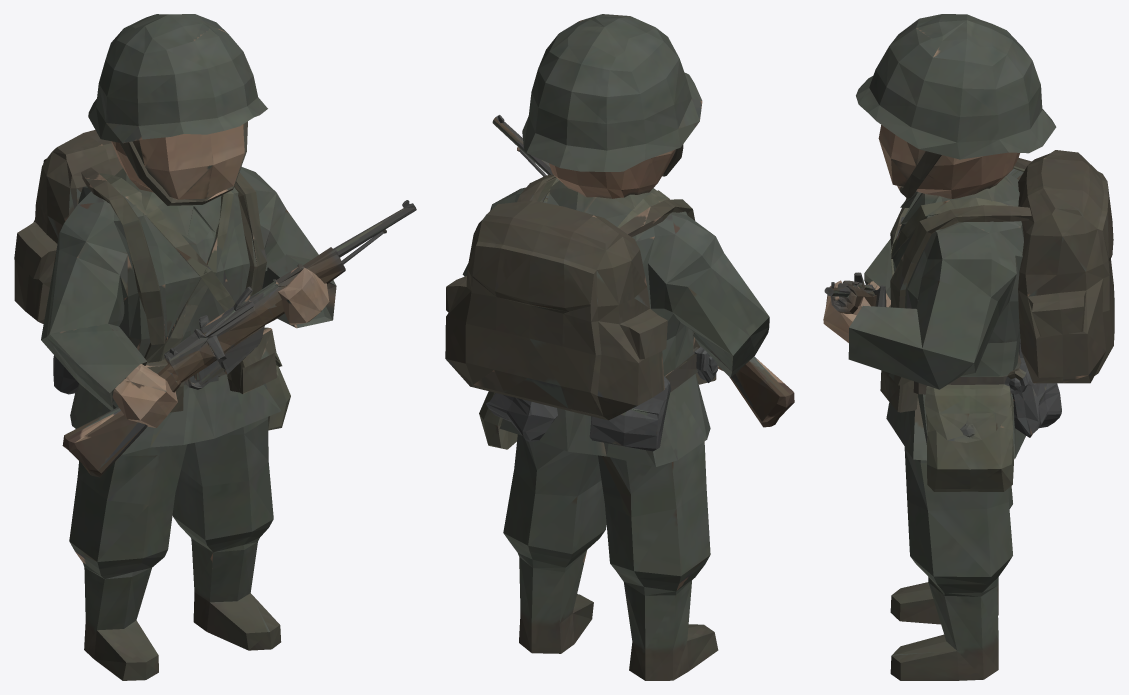
The model's file is sicily_italian_inf_0.glb.
The picture shows the model from 3 angles, left to right: view 1: azimuth 30°, elevation 25°; view 2: azimuth 150°, elevation 25°; view 3: azimuth 270°, elevation 25°; orthographic projection.
Parts seen in each view (by area): view 1: geometry_0; view 2: geometry_0; view 3: geometry_0.
Boxes of the visible parts, x1=… form: geometry_0: x1=14, y1=14, x2=416, y2=680; geometry_0: x1=445, y1=14, x2=794, y2=680; geometry_0: x1=823, y1=14, x2=1114, y2=680.
Size of the model in its own units: 0.1755 by 0.324 by 0.1373.
1 material, 1 textured.
